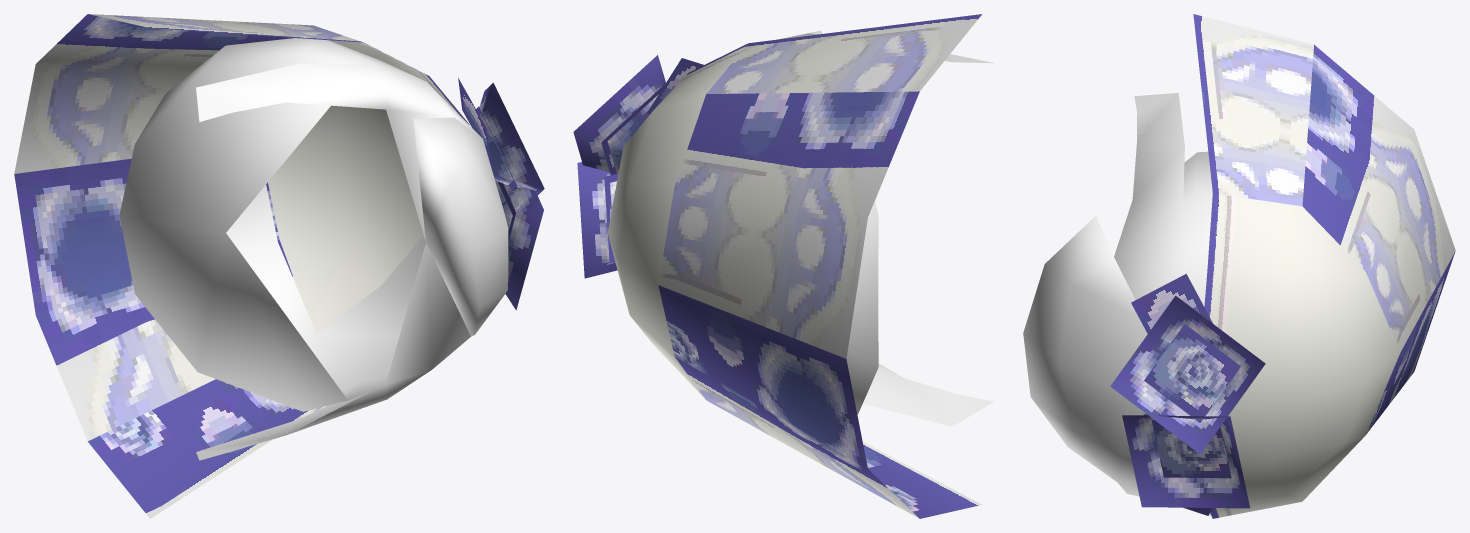
File: hlmt_veil_wht.dae
3 renders of one model, left to right at view 1: azimuth 30°, elevation 25°; view 2: azimuth 150°, elevation 25°; view 3: azimuth 270°, elevation 25°, orthographic. The views are drawn at different scales.
Parts seen in each view (by area): view 1: hlmt_veil_wht; view 2: hlmt_veil_wht; view 3: hlmt_veil_wht.
Part boxes in pixels (x1,y1,x2,y2): hlmt_veil_wht: (14, 14, 544, 518); hlmt_veil_wht: (573, 14, 993, 518); hlmt_veil_wht: (1023, 14, 1455, 518).
Bounding box in the file's own units: 25.53 × 30.78 × 25.5.
Materials: 2 (2 with a texture image).
